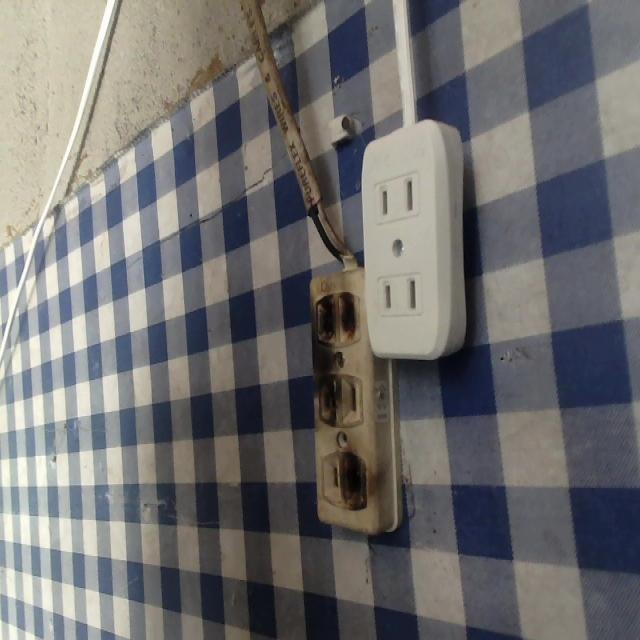-: (309, 289, 366, 340), (335, 445, 372, 511), (312, 368, 347, 429)
